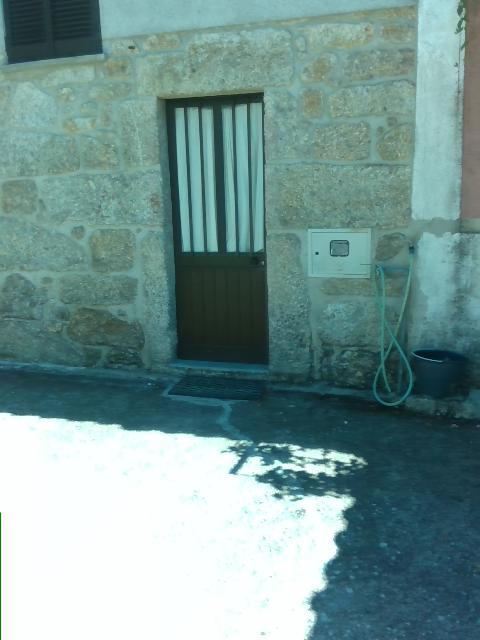door: (162, 88, 268, 369)
